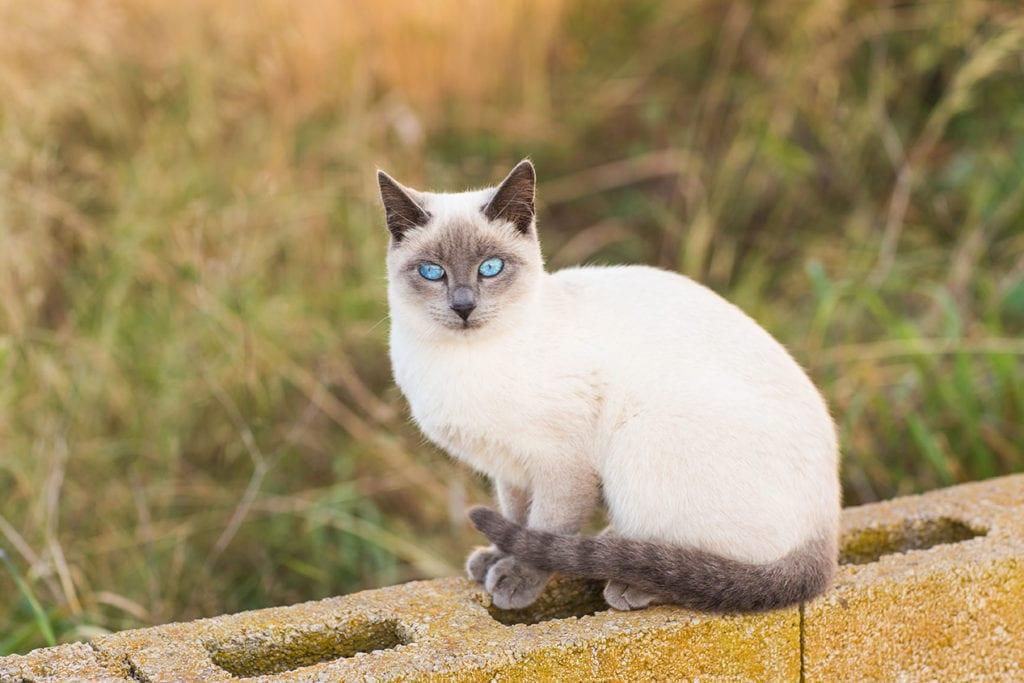siamese: (370, 163, 555, 351)
